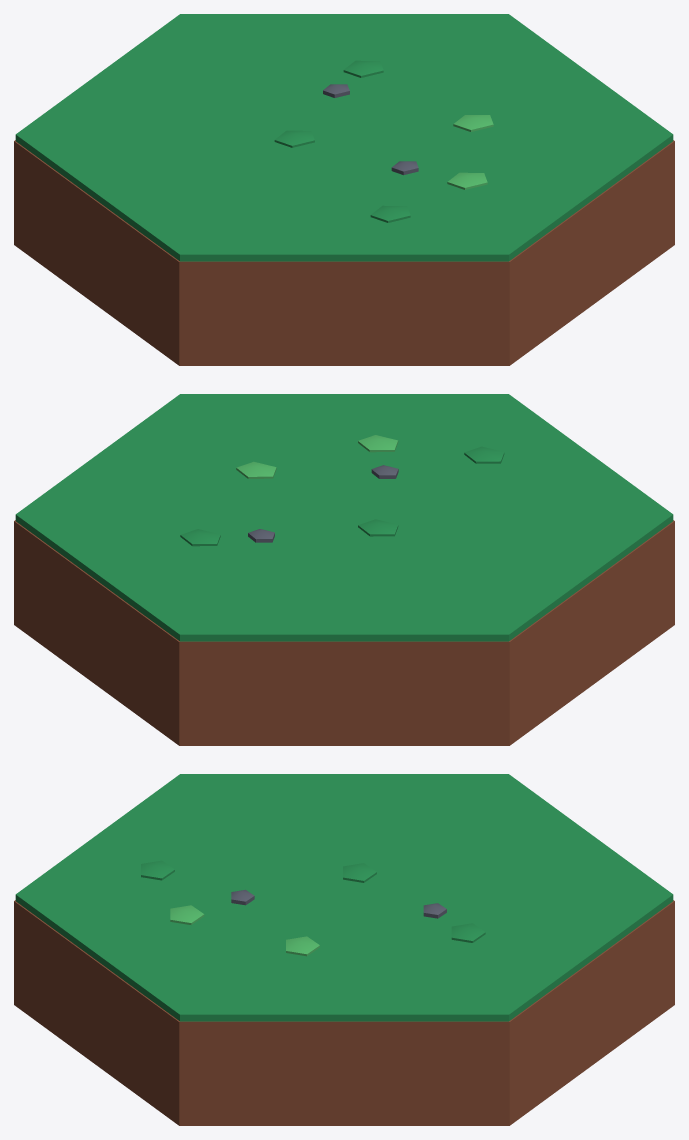
The model's file is grass.glb.
3 views of the same model, one above another, from view 1: azimuth 30°, elevation 25°; view 2: azimuth 150°, elevation 25°; view 3: azimuth 270°, elevation 25° (orthographic).
Parts seen in each view (by area): view 1: grass; view 2: grass; view 3: grass.
Part boxes in pixels (left/top/right/bottom): grass: left=14, top=14, right=674, bottom=365; grass: left=14, top=394, right=674, bottom=745; grass: left=14, top=774, right=674, bottom=1125.
Bounding box in the file's own units: 1 × 0.228 × 1.15.
1 material, 1 textured.
